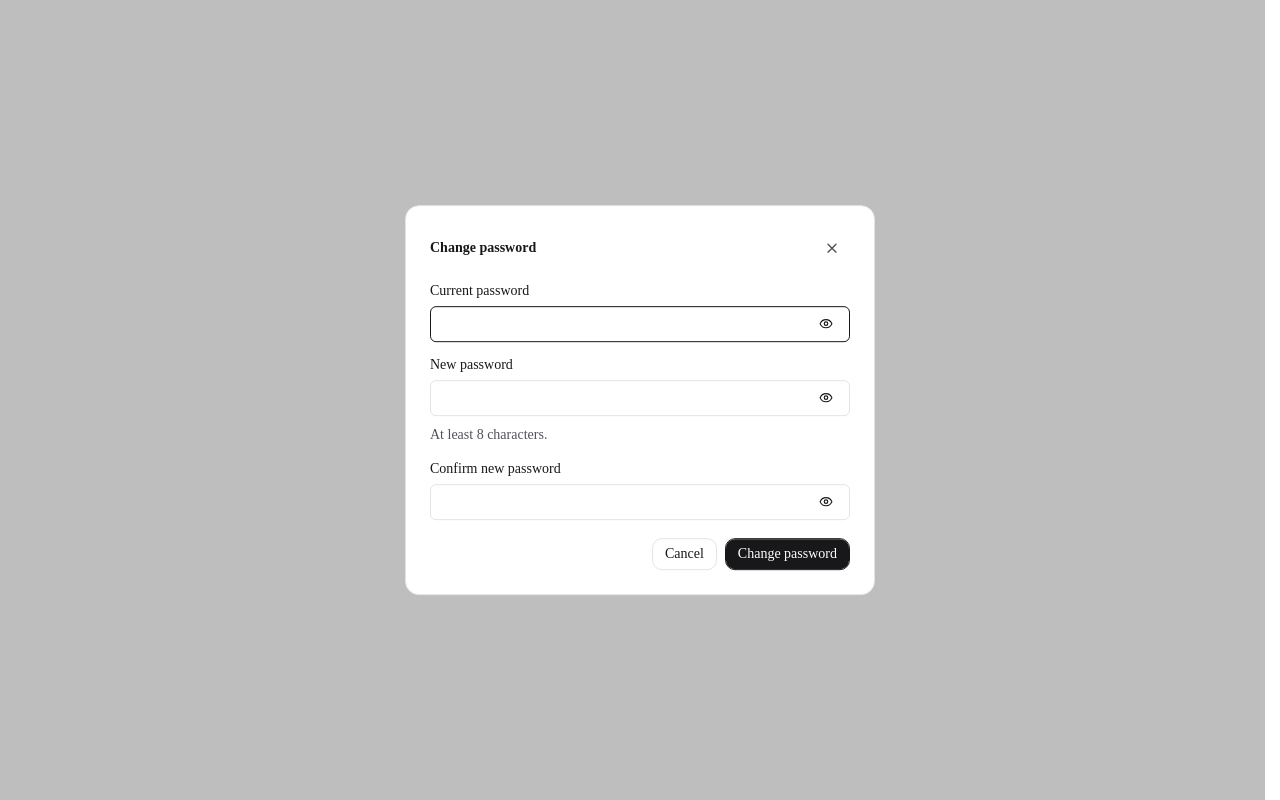
ChangePasswordDialog › stays open on failure and guards a dirty dismissal
The image size is (1280, 800).
Type "current-password-1234" into the password field labelled "Current password" at (640, 324), box [430,306,850,342]
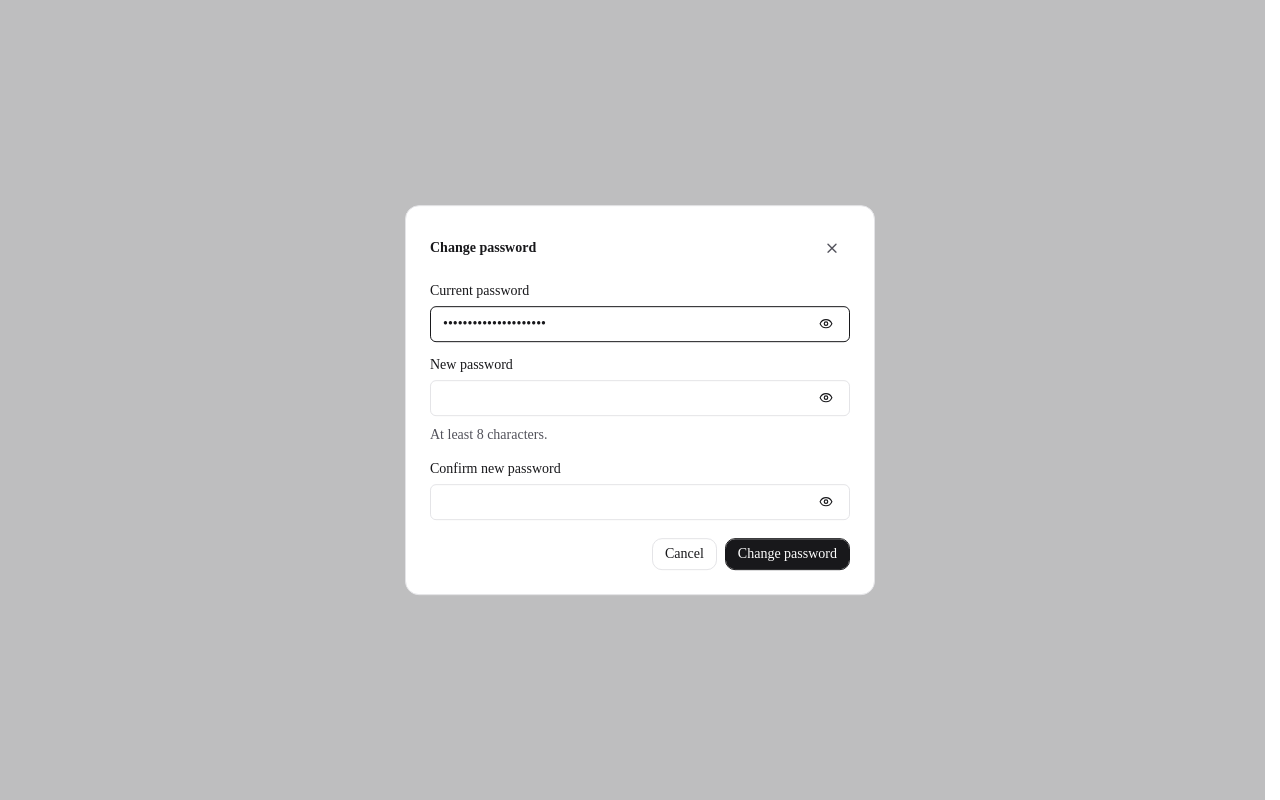
Type "new-password-5678" into the password field labelled "New password" at (640, 398), box [430,380,850,416]
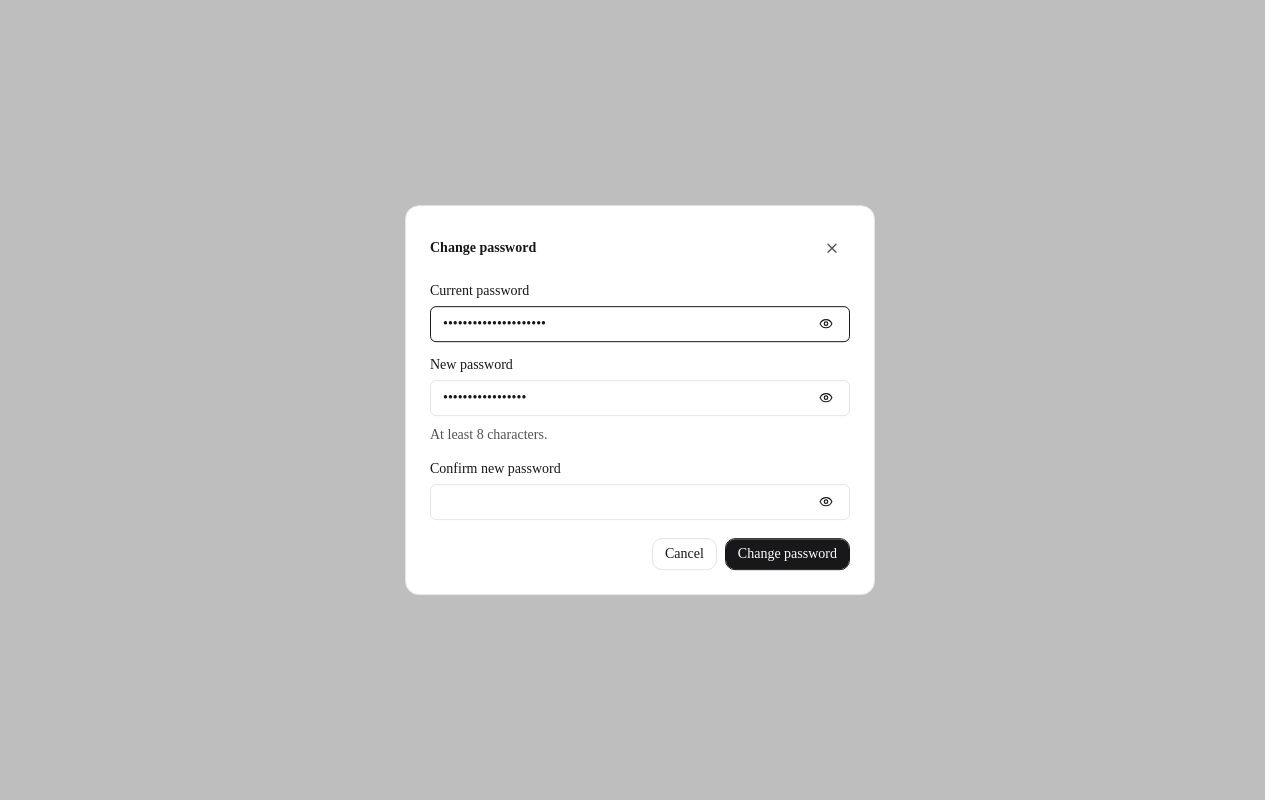
Type "new-password-5678" into the password field labelled "Confirm new password" at (640, 502), box [430,484,850,520]
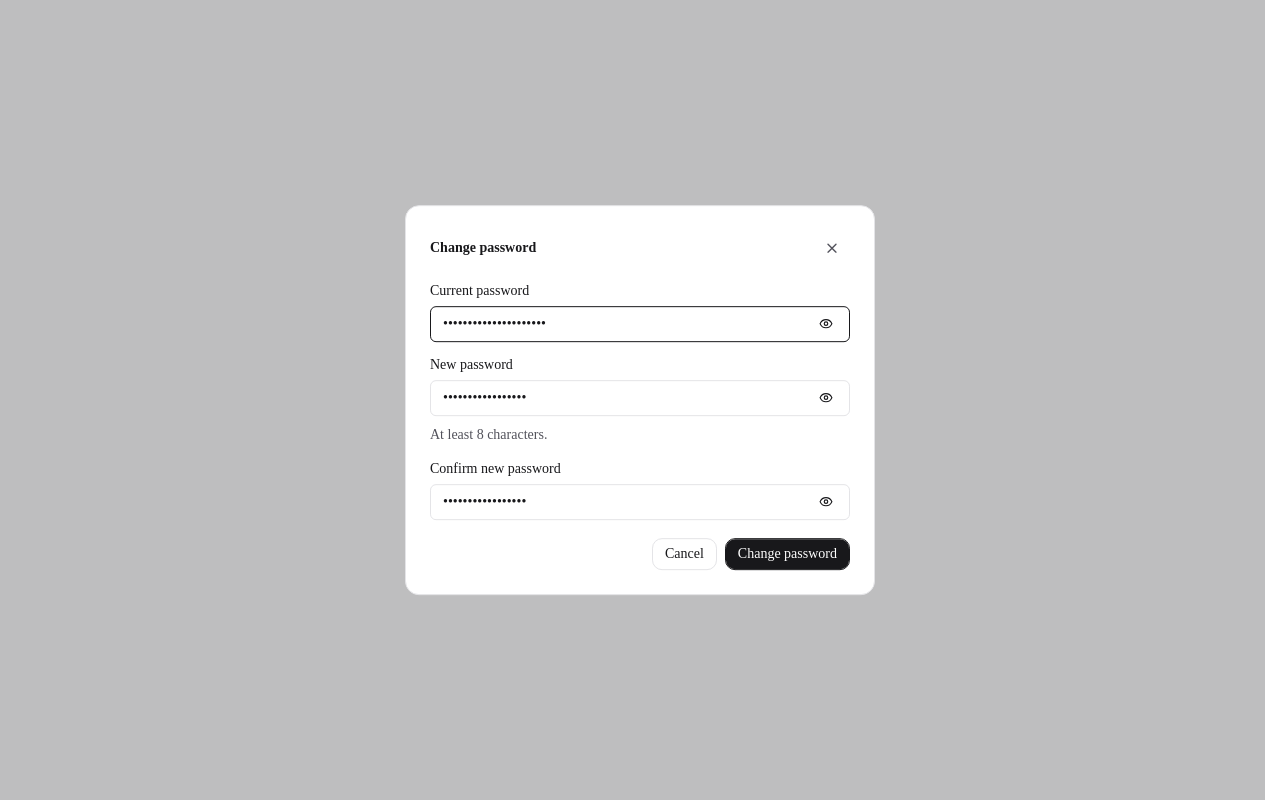
Click the button "Change password" at (787, 554), box [725,538,850,570]
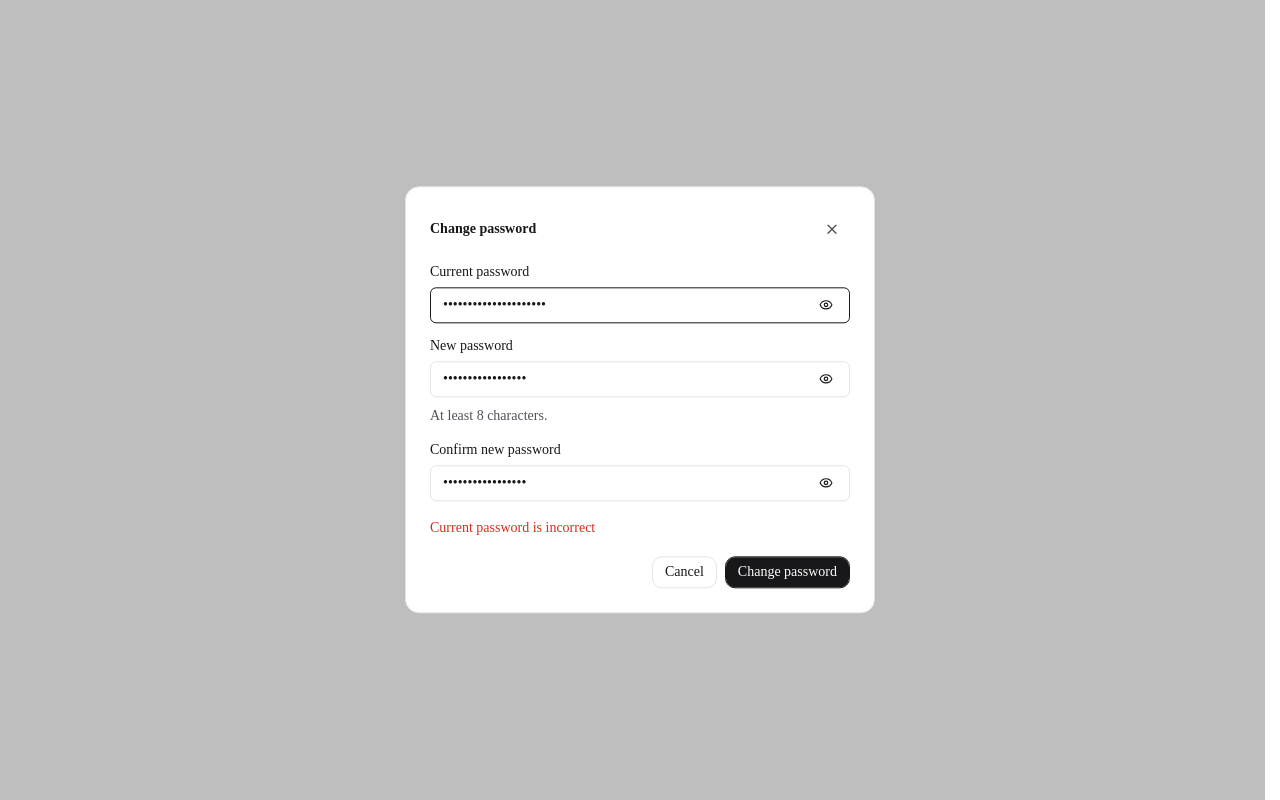
Expected: the message reads "Current password is incorrect", [430,520,595,535]
Click the button "Cancel" at (684, 573), box [652,557,717,589]
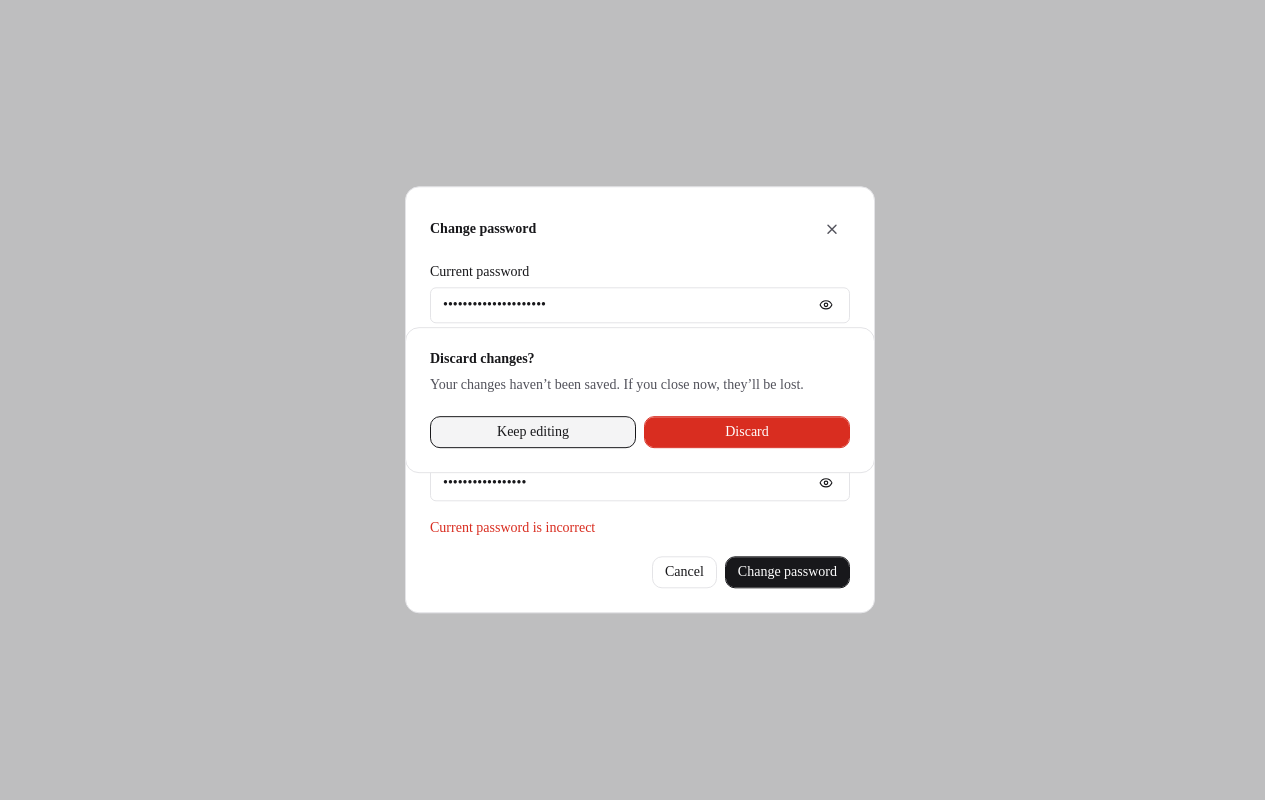
Expected: the heading "Discard changes?" is shown, [430,351,535,366]
